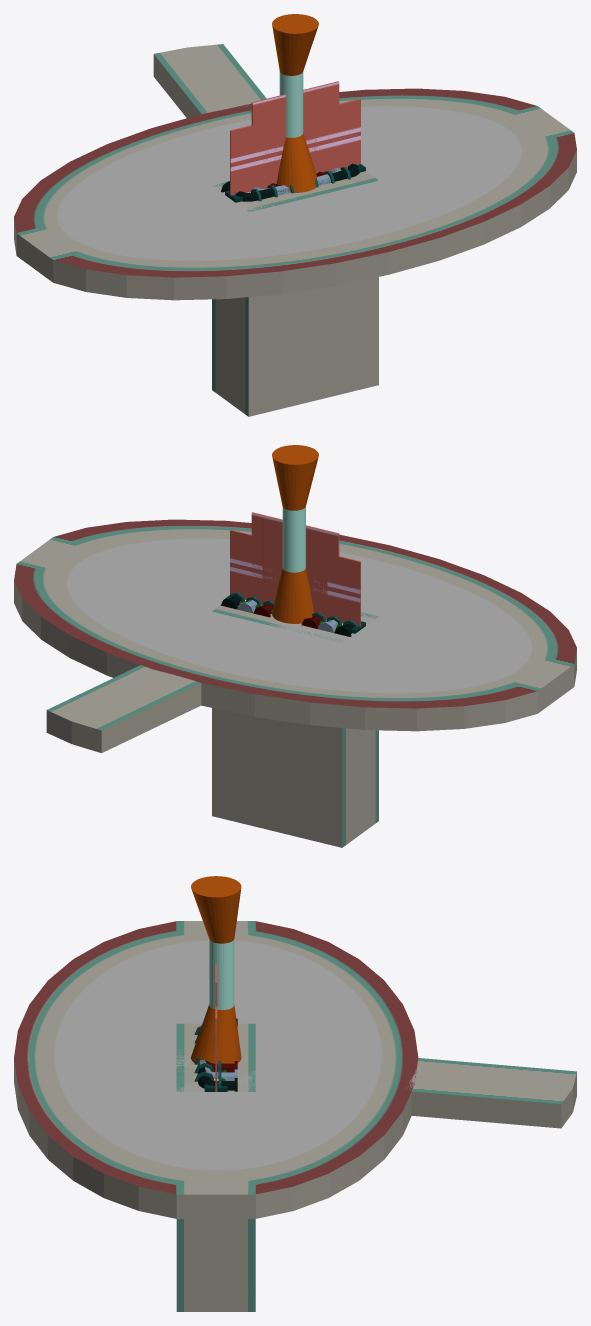
Rendered from Map_Release_2.fbx.
3 renders of one model, top to bottom at view 1: azimuth 30°, elevation 25°; view 2: azimuth 150°, elevation 25°; view 3: azimuth 270°, elevation 25°, orthographic. The views are drawn at different scales.
Parts seen in each view (by area): view 1: Zemin_Yuvarlak, Z_Yamac_Md_9, Duvar_ver1_Basic_3, Zemin_Yuvarlak_Yol, Sutun, Duvar_ver2, Duvar_Dik_ver1_Maxi_4, Duvar_Dik_ver1_Mini_2, Z_Yamac_Sm_5, Metal_Boru_lg; view 2: Zemin_Yuvarlak, Z_Yamac_Md_9, Zemin_Yuvarlak_Yol, Sutun, Duvar_ver1_Basic_3, Duvar_ver2, Duvar_Dik_ver1_Maxi_4, Duvar_Dik_ver1_Basic_3, Duvar_Dik_ver1_Mini_2, Z_Yamac_Sm_5, Z_normal, Metal_Boru_md; view 3: Zemin_Yuvarlak, Z_Yamac_Md_9, Zemin_Yuvarlak_Yol, Sutun, Z_Yamac_Sm_5.
Part boxes in pixels (x1,y1,x2,y2): Zemin_Yuvarlak: (14, 88, 576, 300); Z_Yamac_Md_9: (212, 171, 378, 416); Duvar_ver1_Basic_3: (230, 98, 360, 195); Zemin_Yuvarlak_Yol: (153, 44, 266, 117); Sutun: (272, 14, 318, 192); Duvar_ver2: (230, 99, 360, 195); Duvar_Dik_ver1_Maxi_4: (251, 81, 339, 166); Duvar_Dik_ver1_Mini_2: (273, 86, 317, 168); Z_Yamac_Sm_5: (261, 277, 378, 311); Metal_Boru_lg: (221, 163, 359, 201); Zemin_Yuvarlak: (14, 519, 576, 731); Z_Yamac_Md_9: (212, 605, 378, 847); Zemin_Yuvarlak_Yol: (46, 665, 201, 753); Sutun: (272, 445, 318, 623); Duvar_ver1_Basic_3: (230, 529, 360, 626); Duvar_ver2: (230, 530, 360, 626); Duvar_Dik_ver1_Maxi_4: (251, 512, 339, 601); Duvar_Dik_ver1_Basic_3: (262, 515, 327, 603); Duvar_Dik_ver1_Mini_2: (273, 517, 317, 601); Z_Yamac_Sm_5: (212, 708, 286, 740); Z_normal: (256, 612, 378, 641); Metal_Boru_md: (237, 596, 341, 632); Zemin_Yuvarlak: (14, 921, 418, 1218); Z_Yamac_Md_9: (176, 1023, 255, 1311); Zemin_Yuvarlak_Yol: (406, 1058, 576, 1128); Sutun: (191, 876, 241, 1064); Z_Yamac_Sm_5: (176, 1063, 255, 1091).
Size of the model in its own units: 2400 by 1600 by 2088.
3 materials, 3 textured.
